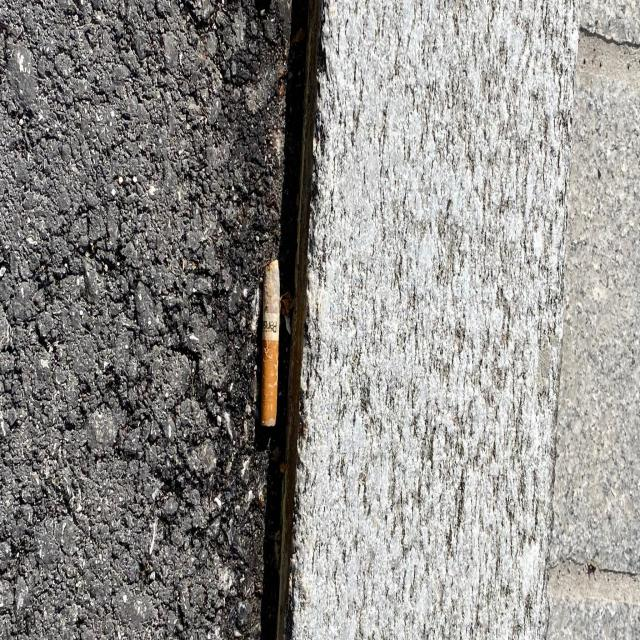other waste: (260, 258, 280, 428)
